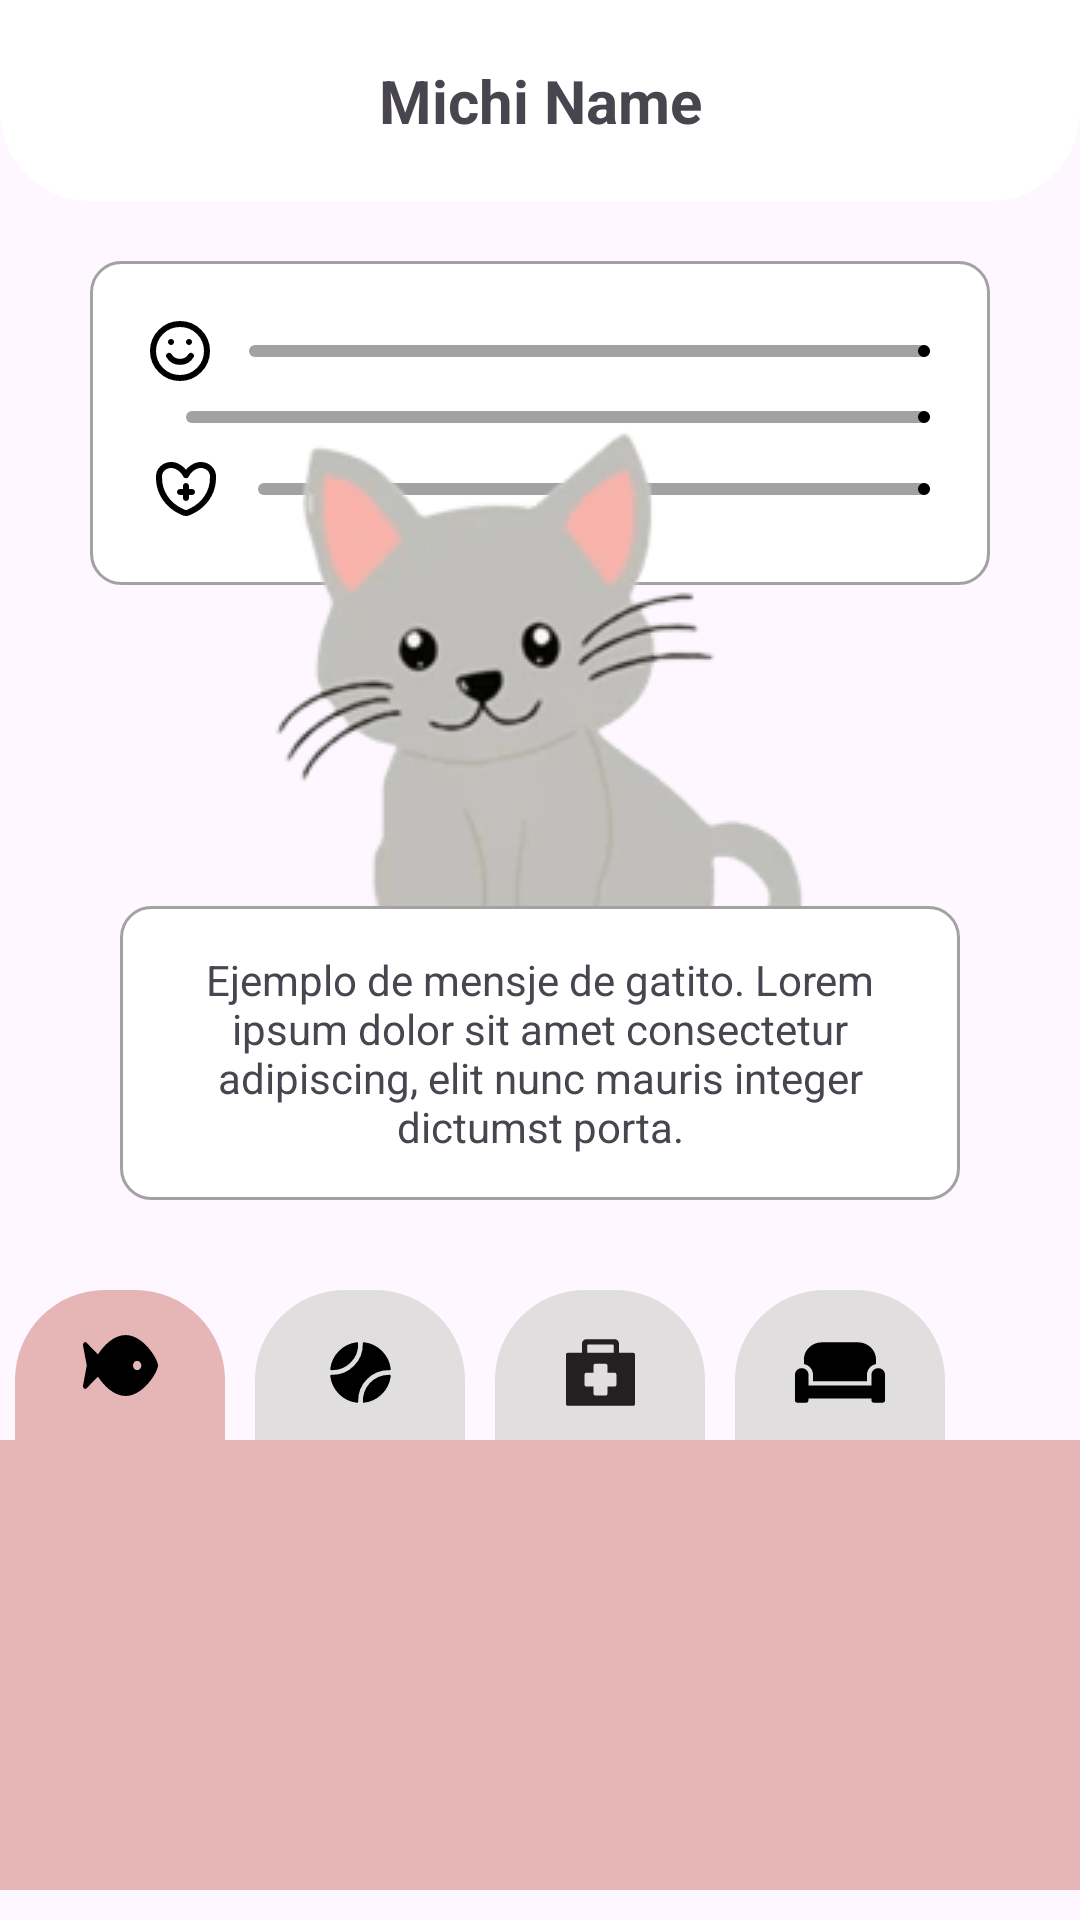

Where icons sit on this 1080×1920 app screen, as (x1, y1, x2, y2):
ball: (255, 1290, 465, 1440)
cat happiness: (150, 321, 210, 381)
cat health: (156, 462, 216, 516)
fish: (15, 1290, 225, 1440)
furniture: (735, 1290, 945, 1440)
health: (495, 1290, 705, 1440)
